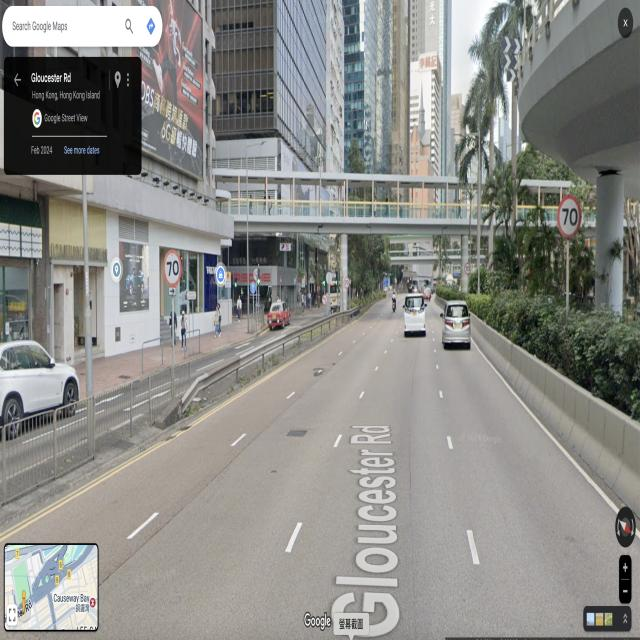Order-Sign: (558, 197, 581, 236), (164, 250, 182, 285), (225, 273, 231, 287), (464, 262, 470, 274), (250, 283, 255, 293), (253, 270, 258, 280), (344, 278, 349, 288), (322, 296, 327, 305)
Street-Direction-Sign: (187, 291, 196, 300)
